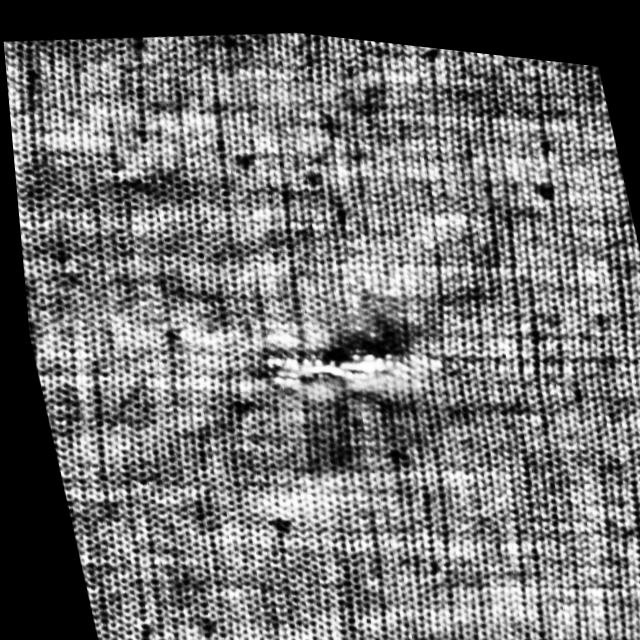Hole: (249, 309, 450, 421)
